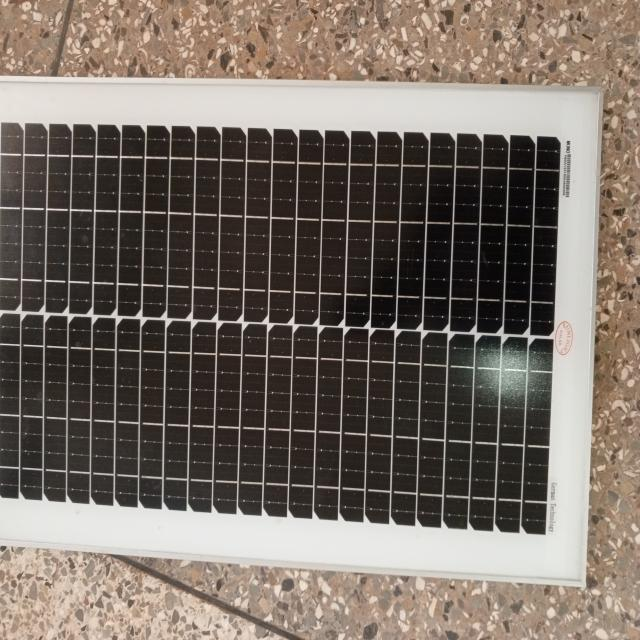Clean: (1, 94, 575, 526)
